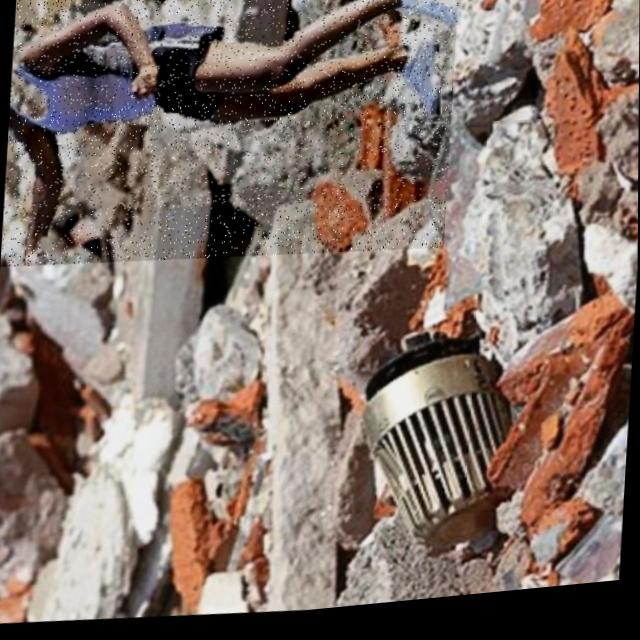Person in Rubble: (0, 0, 460, 289)
